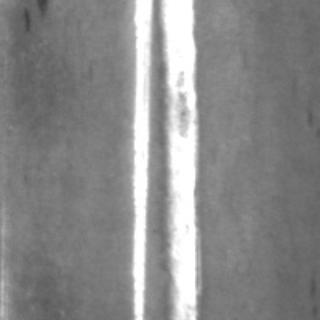scratches: (146, 0, 202, 316), (128, 1, 154, 316)
